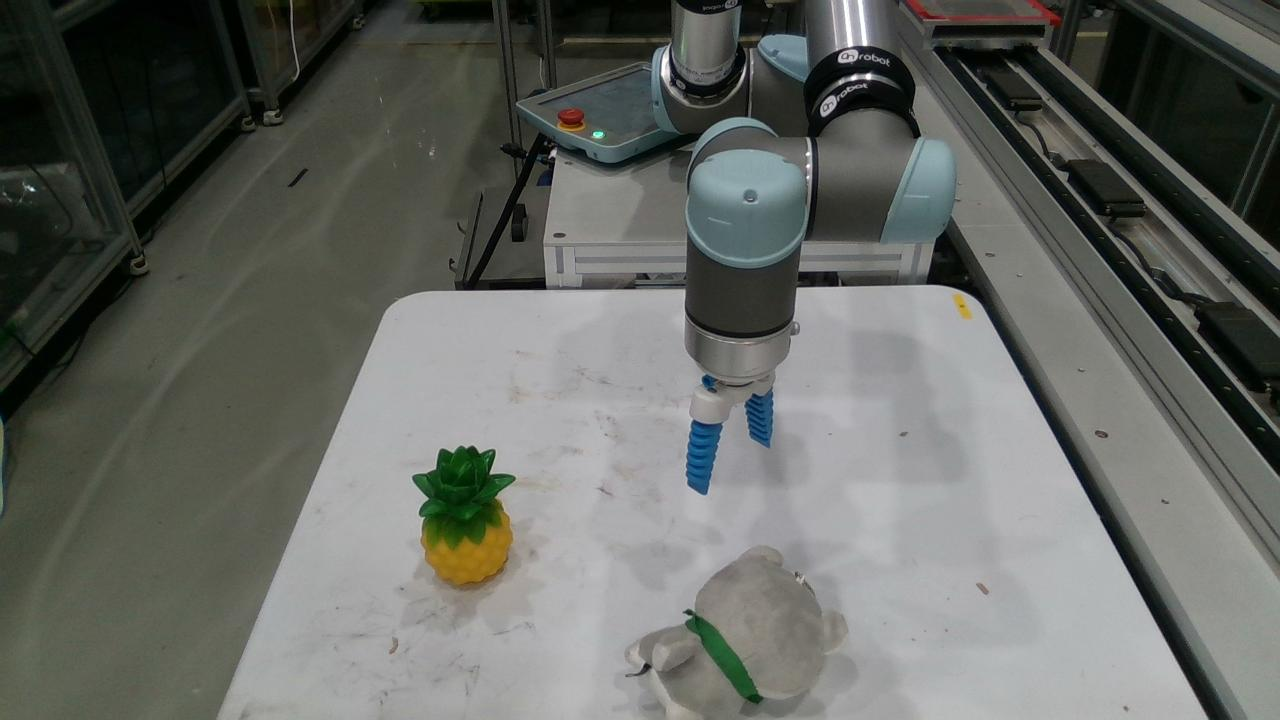UR5: (652, 0, 955, 424)
gripper_left: (686, 420, 723, 495)
gripper_right: (746, 384, 775, 448)
target: (625, 544, 848, 719), (411, 444, 518, 585)
